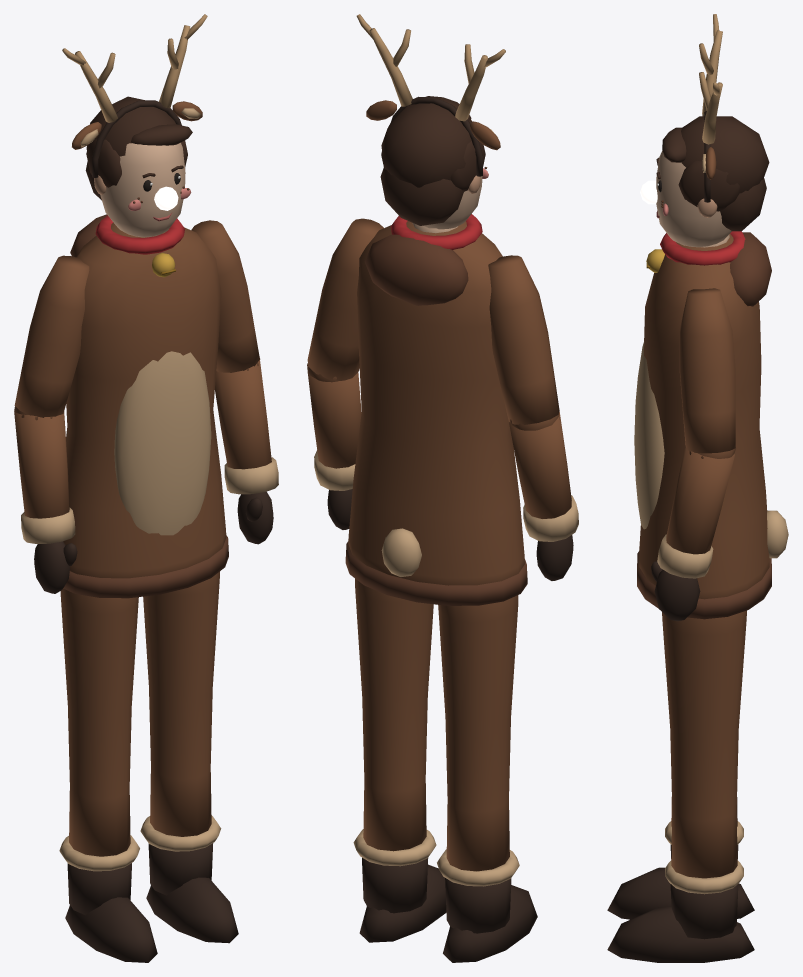
File: resident-rudolph.glb
3 views of the same model, side by side, from view 1: azimuth 30°, elevation 25°; view 2: azimuth 150°, elevation 25°; view 3: azimuth 270°, elevation 25° (orthographic). The views are drawn at different scales.
Parts seen in each view (by area): view 1: body, armL, head, armR; view 2: body, armL, head, armR; view 3: body, armR, head.
Boxes of the visible parts, <box> form: body: <box>59,214,238,962</box>; armL: <box>14,255,89,593</box>; head: <box>62,14,207,237</box>; armR: <box>191,220,278,544</box>; body: <box>345,214,537,962</box>; armL: <box>488,255,578,580</box>; head: <box>356,14,505,229</box>; armR: <box>307,218,383,529</box>; body: <box>607,231,788,962</box>; armR: <box>651,288,735,621</box>; head: <box>640,14,769,247</box>.
Size of the model in its own units: 0.556 by 1.87 by 0.349.
